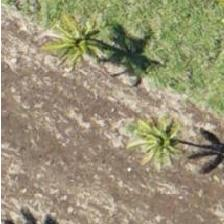Kelapa_Sawit: (118, 97, 208, 187), (39, 0, 129, 87)
